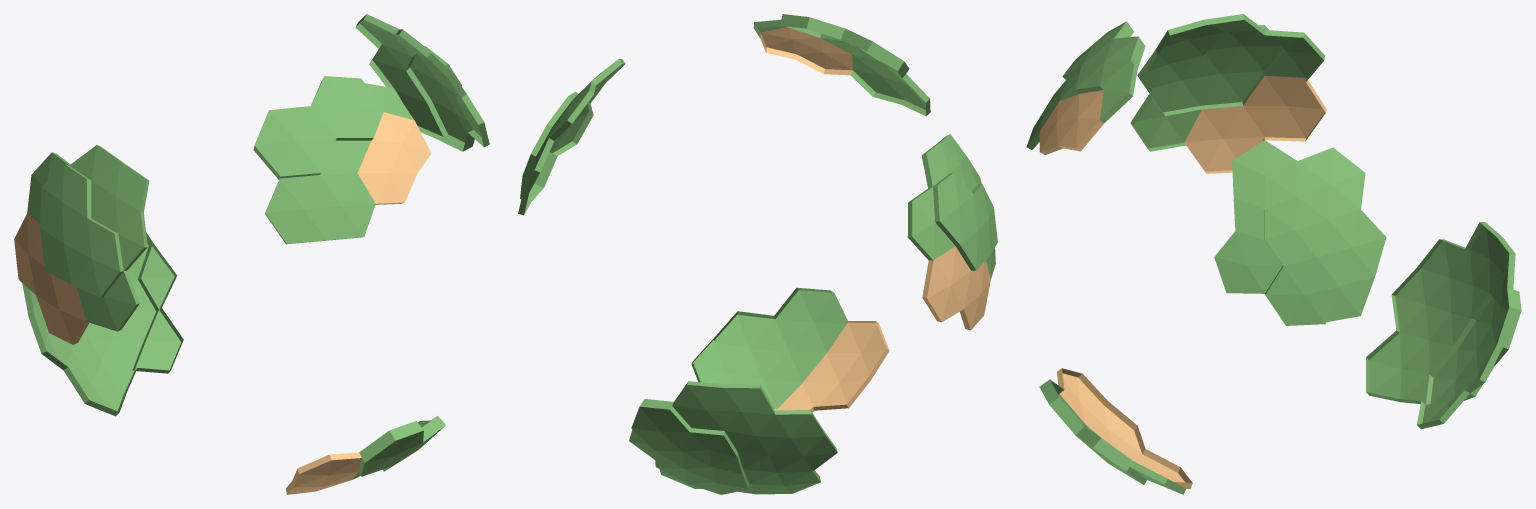
The model's file is continents.gltf.
3 views of the same model, side by side, from view 1: azimuth 30°, elevation 25°; view 2: azimuth 150°, elevation 25°; view 3: azimuth 270°, elevation 25° (orthographic). The views are drawn at different scales.
Parts seen in each view (by area): view 1: continents; view 2: continents; view 3: continents.
Boxes of the visible parts, x1,y1,x2,y2 form: continents: (14,14,489,494); continents: (518,14,997,494); continents: (1026,14,1521,494).
Bounding box in the file's own units: 208 × 189 × 195.
